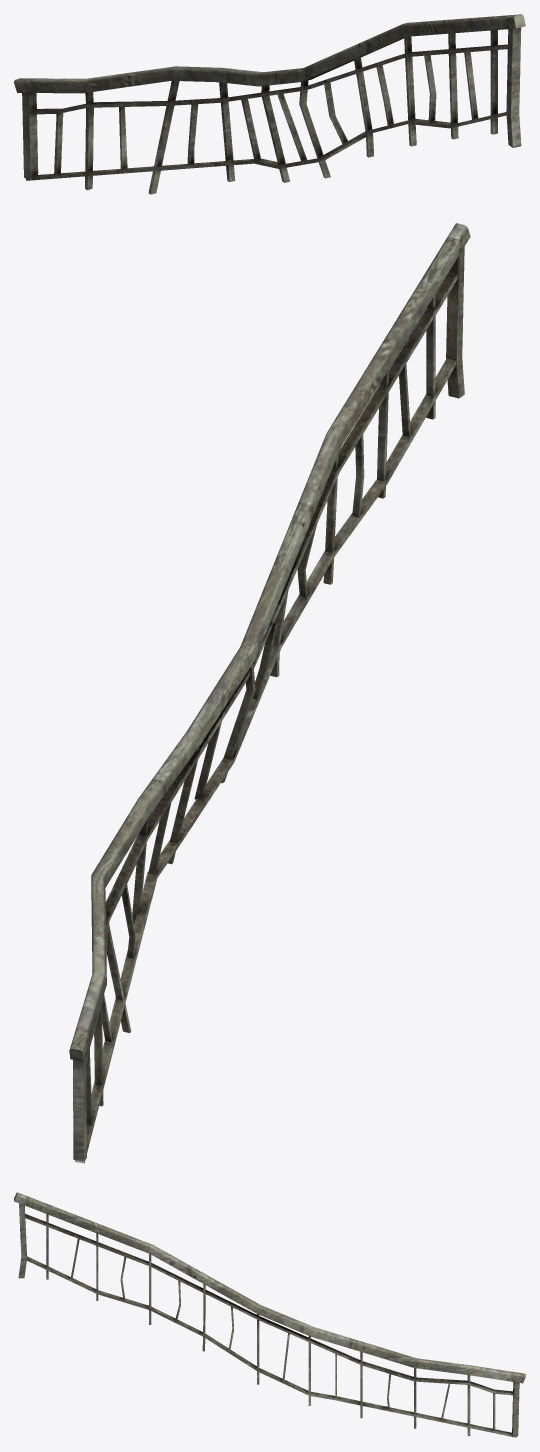
The model's file is RailingsBroken_T01.FBX.
The picture shows the model from 3 angles, top to bottom: view 1: azimuth 30°, elevation 25°; view 2: azimuth 150°, elevation 25°; view 3: azimuth 270°, elevation 25°; orthographic projection. The views are drawn at different scales.
Parts seen in each view (by area): view 1: RailingsBroken_T01; view 2: RailingsBroken_T01; view 3: RailingsBroken_T01.
Part boxes in pixels (x1,y1,x2,y2): RailingsBroken_T01: [14, 14, 525, 194]; RailingsBroken_T01: [69, 223, 470, 1163]; RailingsBroken_T01: [14, 1192, 525, 1437].
Bounding box in the file's own units: 97.64 × 375 × 640.
